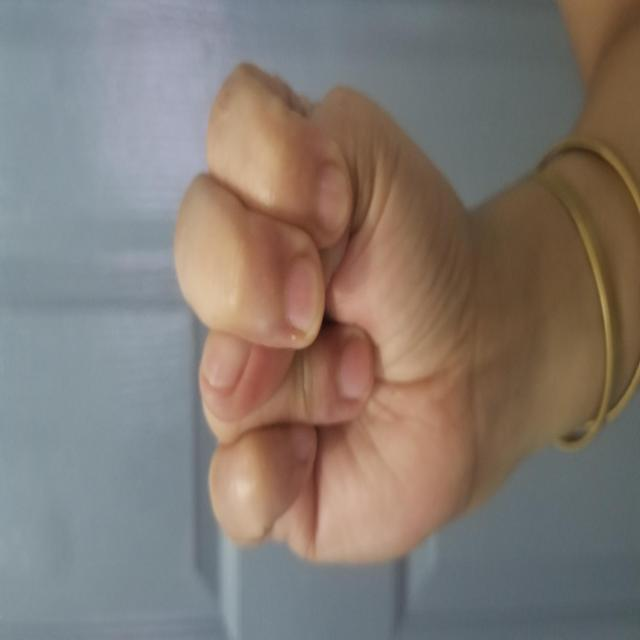N: (70, 30, 587, 616)
